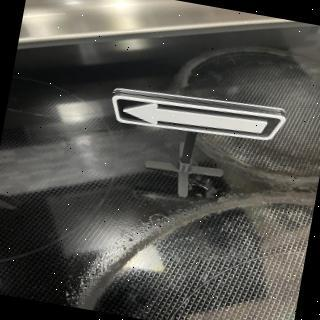sign_oneway_left: (109, 85, 290, 154)
